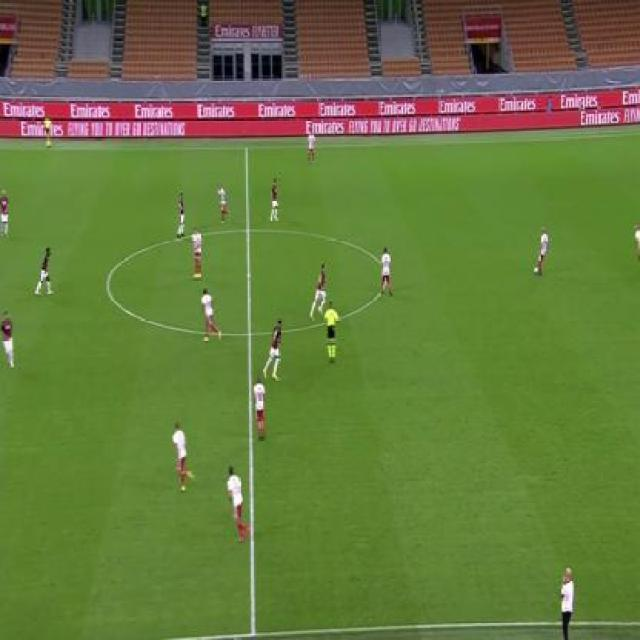ball: (533, 265, 539, 274)
player: (226, 466, 248, 543), (172, 420, 194, 494), (261, 316, 284, 384), (199, 286, 224, 343), (559, 566, 576, 640), (308, 262, 328, 321), (252, 374, 268, 442), (33, 244, 53, 298), (1, 309, 17, 371), (325, 297, 339, 365), (533, 225, 550, 276), (378, 245, 394, 299), (190, 225, 203, 281), (0, 187, 11, 240), (217, 182, 231, 222), (176, 190, 187, 238), (269, 175, 280, 223), (306, 125, 317, 165), (44, 112, 52, 148)
